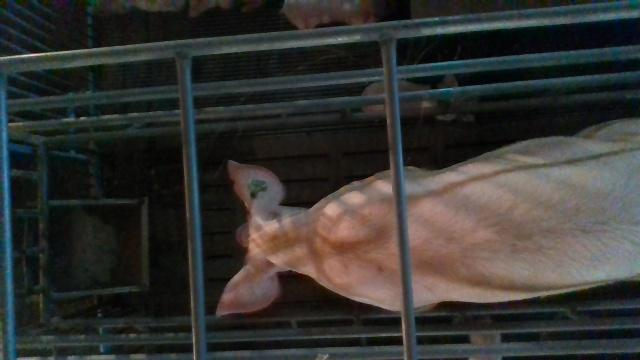piglet: (364, 73, 478, 122), (282, 0, 400, 31)
sow-stand: (216, 117, 640, 318)
